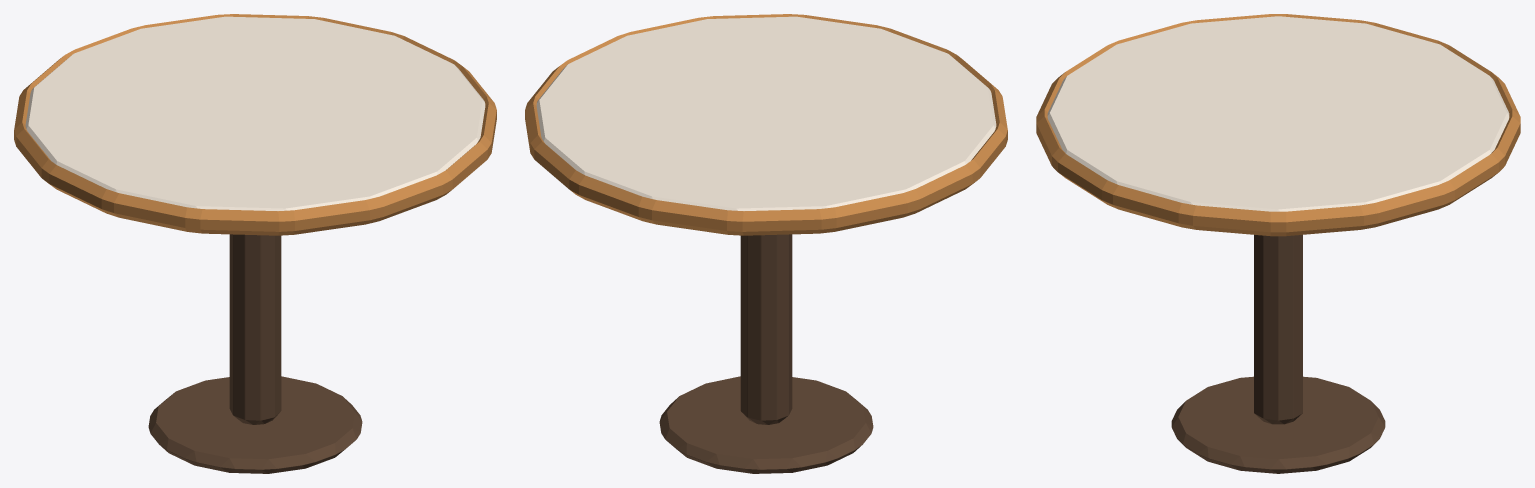
The model's file is CatCafe_Furniture_TableRound.fbx.
The picture shows the model from 3 angles, left to right: view 1: azimuth 30°, elevation 25°; view 2: azimuth 150°, elevation 25°; view 3: azimuth 270°, elevation 25°; orthographic projection.
Parts seen in each view (by area): view 1: CatCafe_Furniture_TableRound; view 2: CatCafe_Furniture_TableRound; view 3: CatCafe_Furniture_TableRound.
Part boxes in pixels (left/top/right/bottom): CatCafe_Furniture_TableRound: left=14, top=14, right=496, bottom=473; CatCafe_Furniture_TableRound: left=525, top=14, right=1007, bottom=473; CatCafe_Furniture_TableRound: left=1036, top=14, right=1520, bottom=473.
Size of the model in its own units: 3.58 by 2.6 by 3.58.
1 material, 1 textured.
